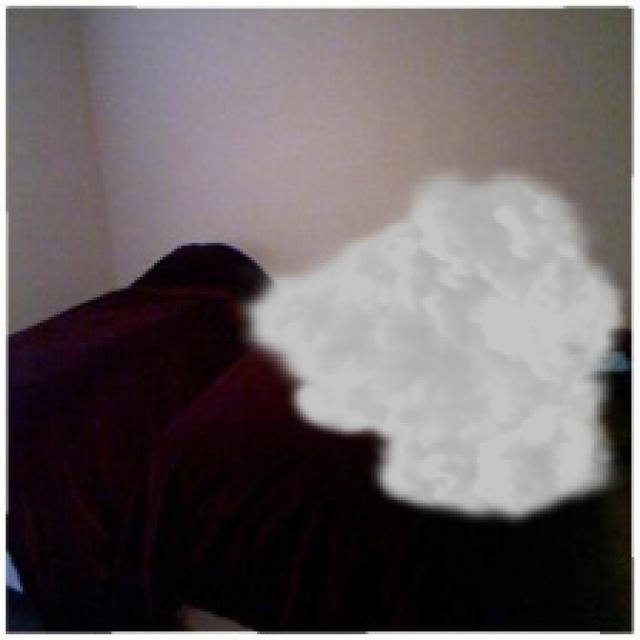Smoke: (232, 157, 632, 529)
